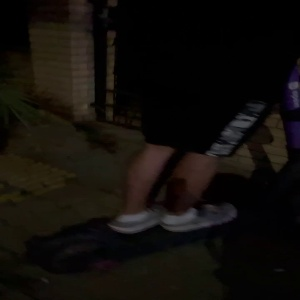human on a scooter: (21, 1, 300, 278)
